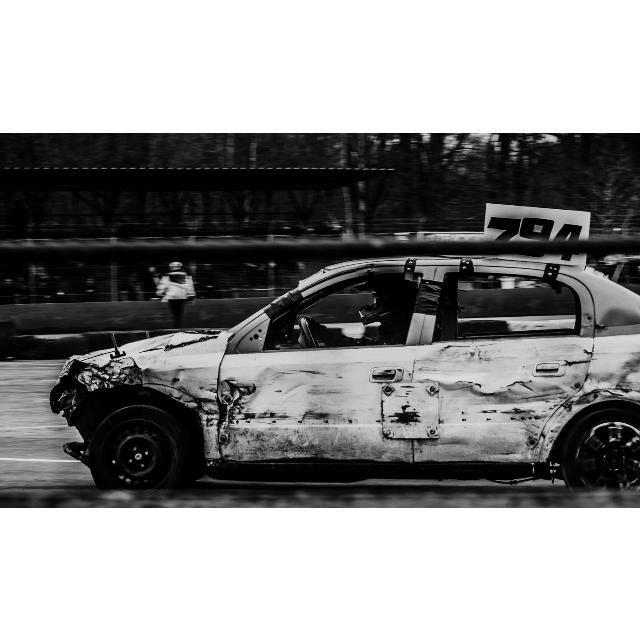doorouter-dent: (416, 262, 571, 460), (223, 294, 397, 462)
fender-dent: (62, 353, 216, 447)
quaterpanel-dent: (593, 325, 640, 419)
roof-dent: (323, 258, 589, 282)
